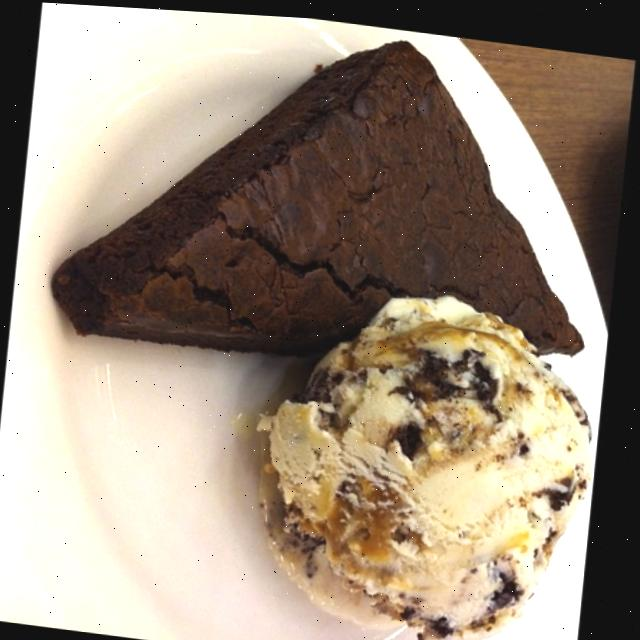蛋糕甜品: (13, 1, 640, 640)
